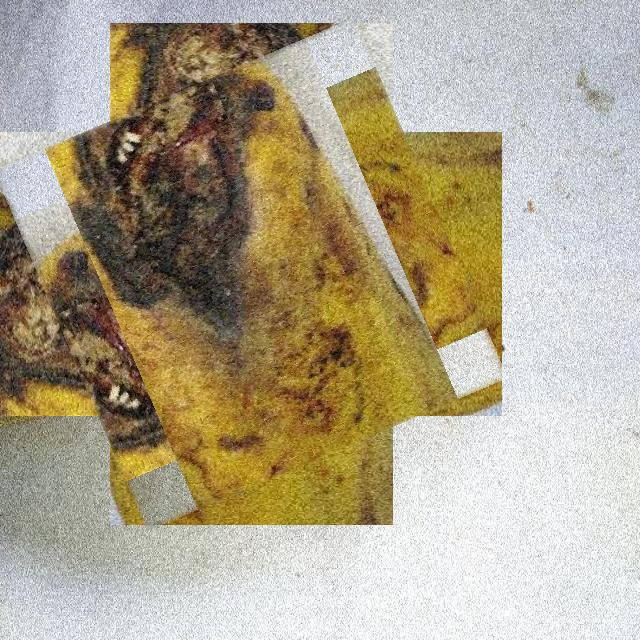Podre: (24, 47, 478, 501)
